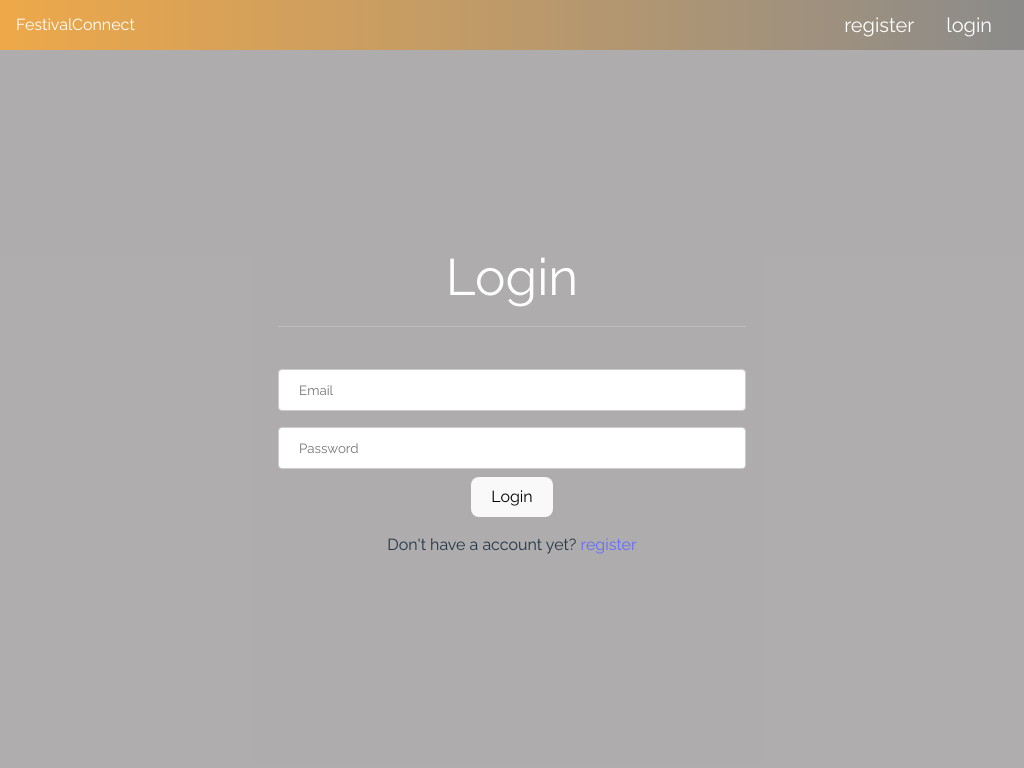
Test case: Login Input Fields › displays error message for invalid email format
The image size is (1024, 768).
Type "invalidemail" into the field with id "email" at (512, 390), box [278, 369, 746, 411]
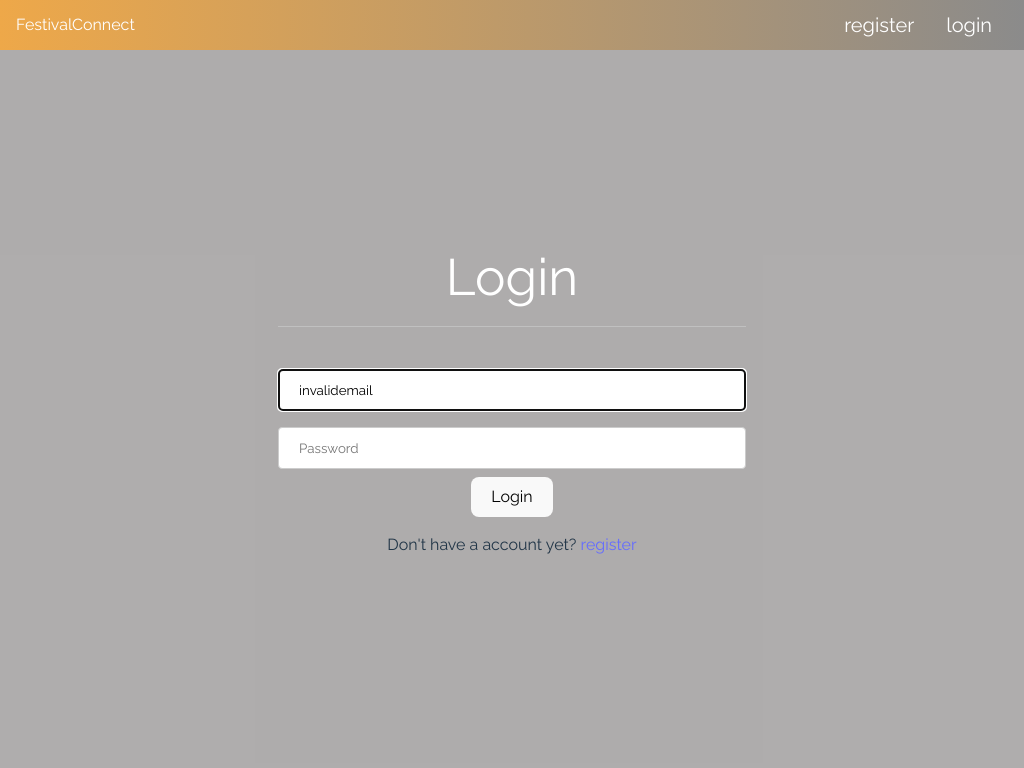
Type "password123" into the password field with placeholder "Password" at (512, 448), box [278, 427, 746, 469]
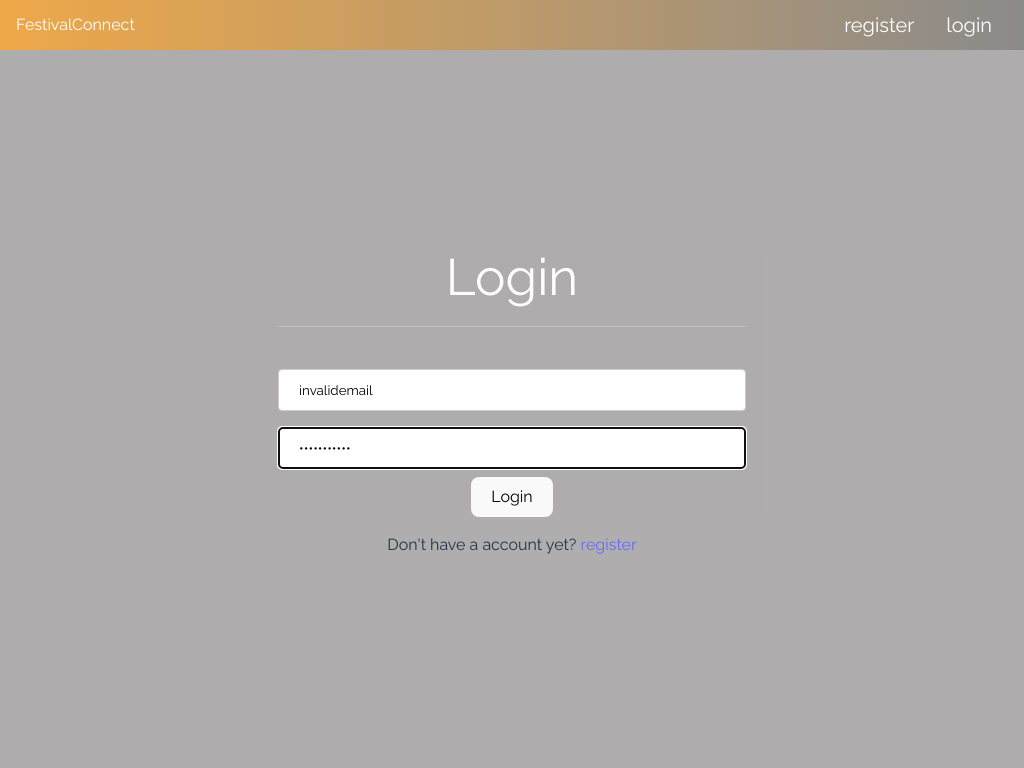
Click the button "Login" at (512, 497), box [471, 477, 553, 517]
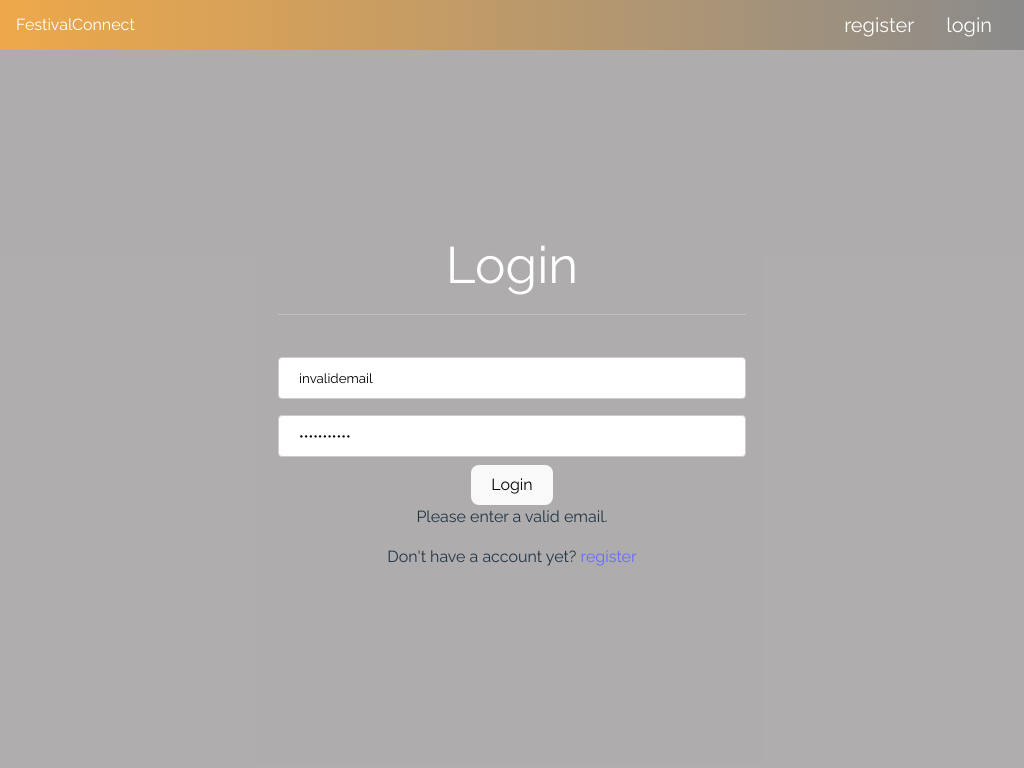
expect the text with id "error" reads "Please enter a valid email.": met, box [416, 507, 607, 526]
